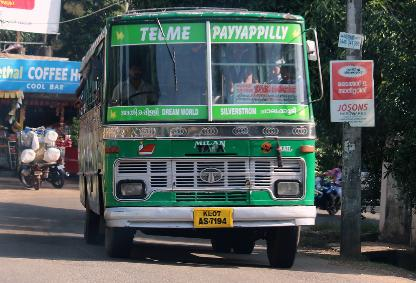bus: (72, 8, 326, 272)
